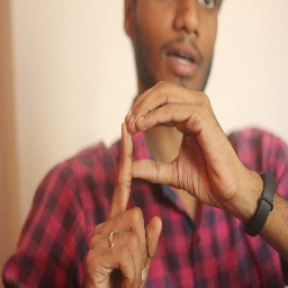P: (81, 81, 241, 283)
